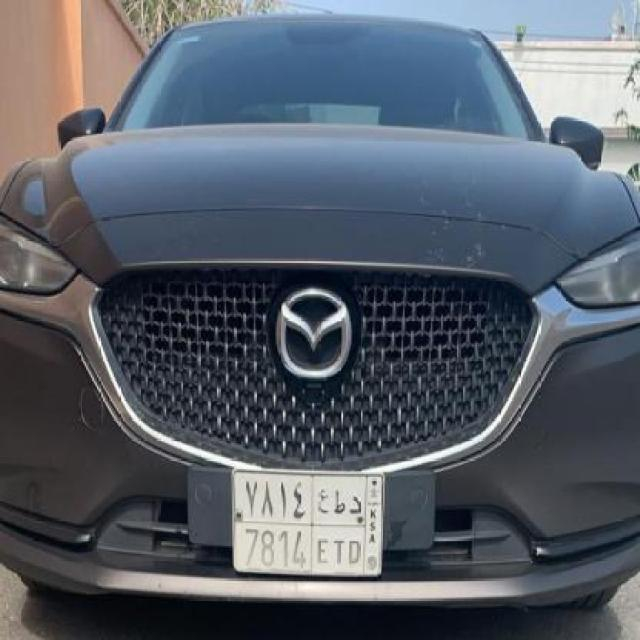license_plate: (230, 466, 387, 580)
